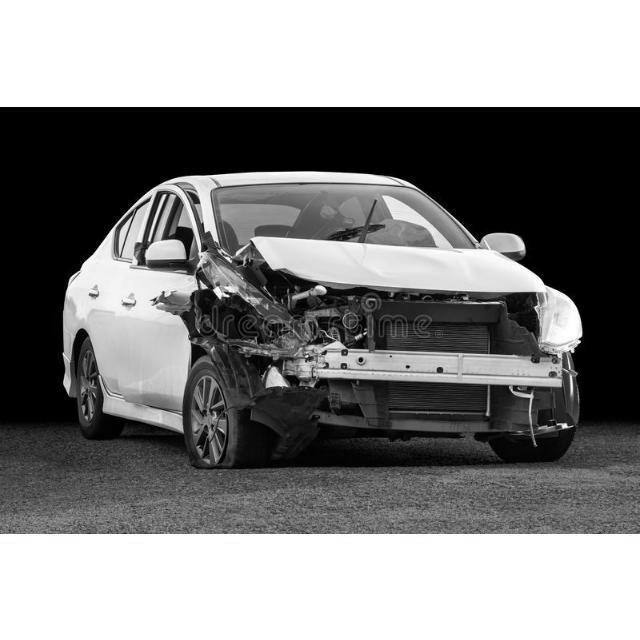bonnet-dent: (241, 231, 552, 313)
